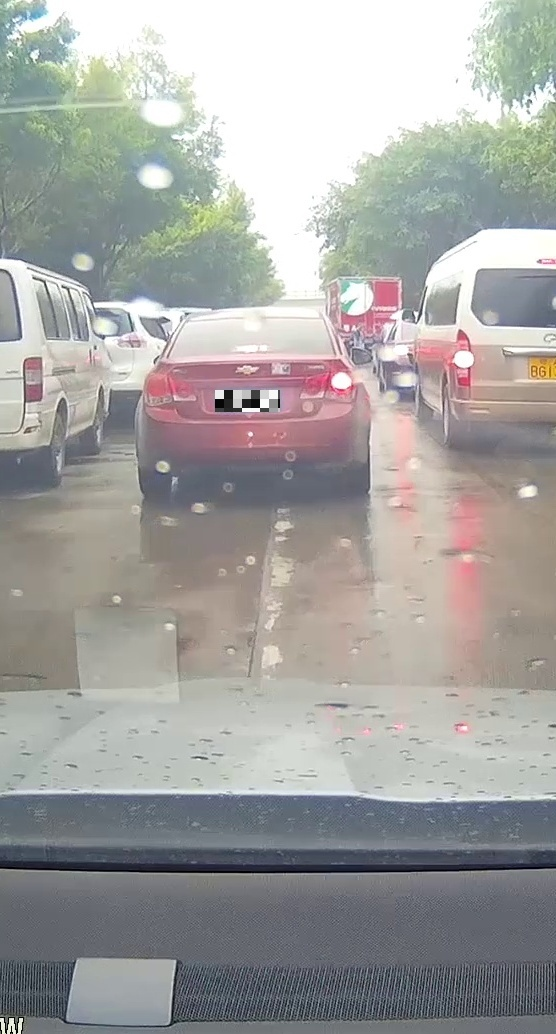L_light: (143, 372, 197, 406)
R_light: (299, 369, 358, 403)
T_light: (233, 345, 268, 353)
day-brake: (134, 306, 368, 495)
plate_1: (215, 390, 280, 412)
